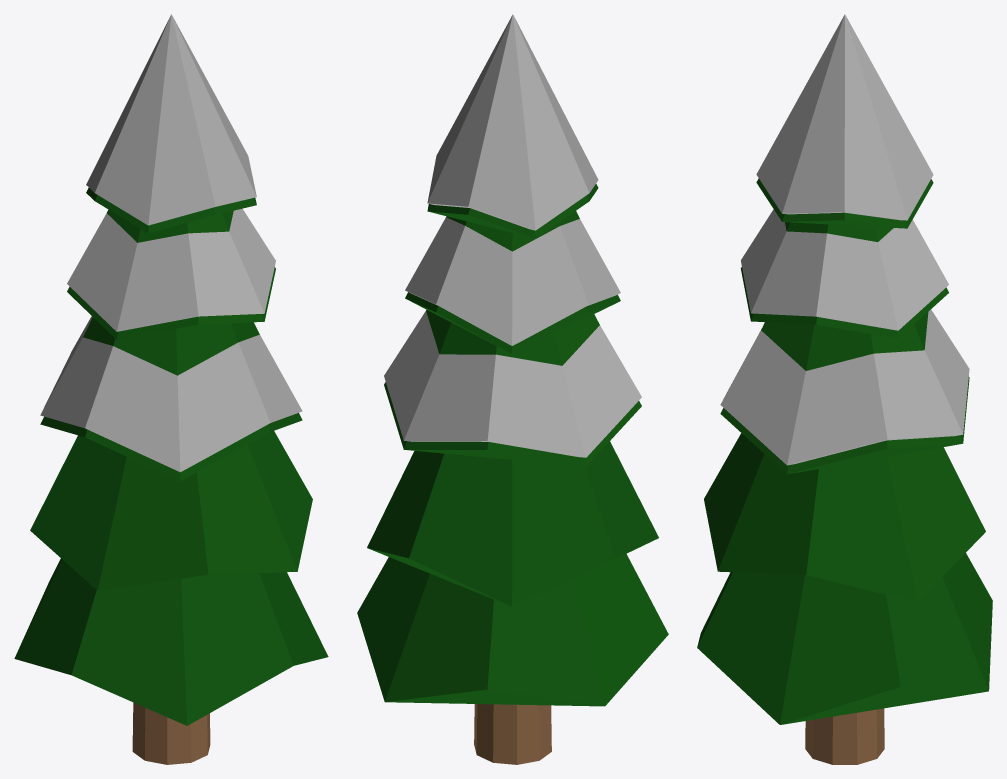
Rendered from Fir_6 Winter.fbx.
The picture shows the model from 3 angles, left to right: view 1: azimuth 30°, elevation 25°; view 2: azimuth 150°, elevation 25°; view 3: azimuth 270°, elevation 25°; orthographic projection.
Parts seen in each view (by area): view 1: Fir6Winter_mesh; view 2: Fir6Winter_mesh; view 3: Fir6Winter_mesh.
Part boxes in pixels (bbox=[...]): Fir6Winter_mesh: bbox=[14, 14, 328, 764]; Fir6Winter_mesh: bbox=[357, 14, 668, 764]; Fir6Winter_mesh: bbox=[697, 14, 992, 764].
Bounding box in the file's own units: 334 × 915 × 334.
